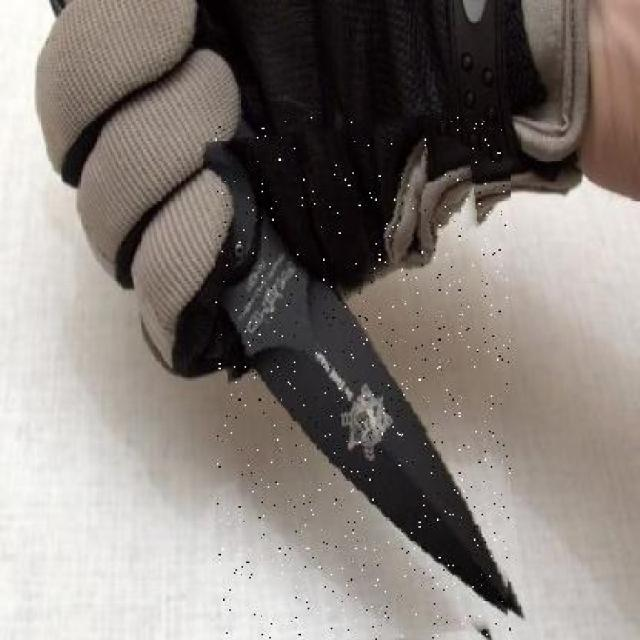knife: (215, 117, 511, 640)
